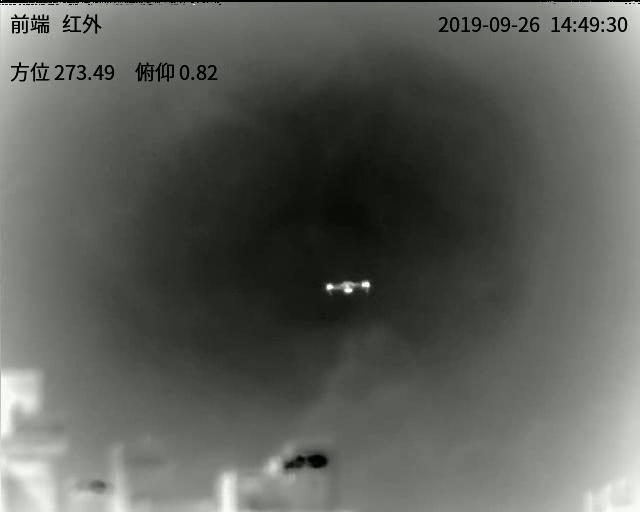DRONE: (324, 278, 371, 299)
